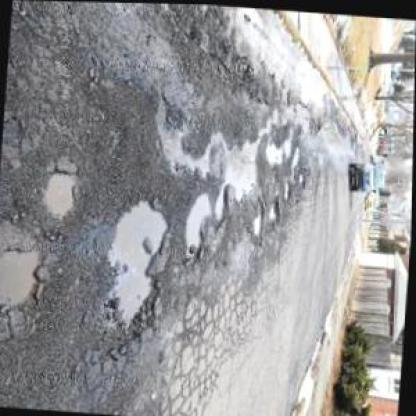pothole: (103, 194, 173, 332), (0, 239, 51, 313), (184, 189, 216, 259), (44, 169, 80, 219), (251, 204, 266, 240), (216, 183, 231, 219), (268, 198, 283, 223), (283, 178, 292, 200)
